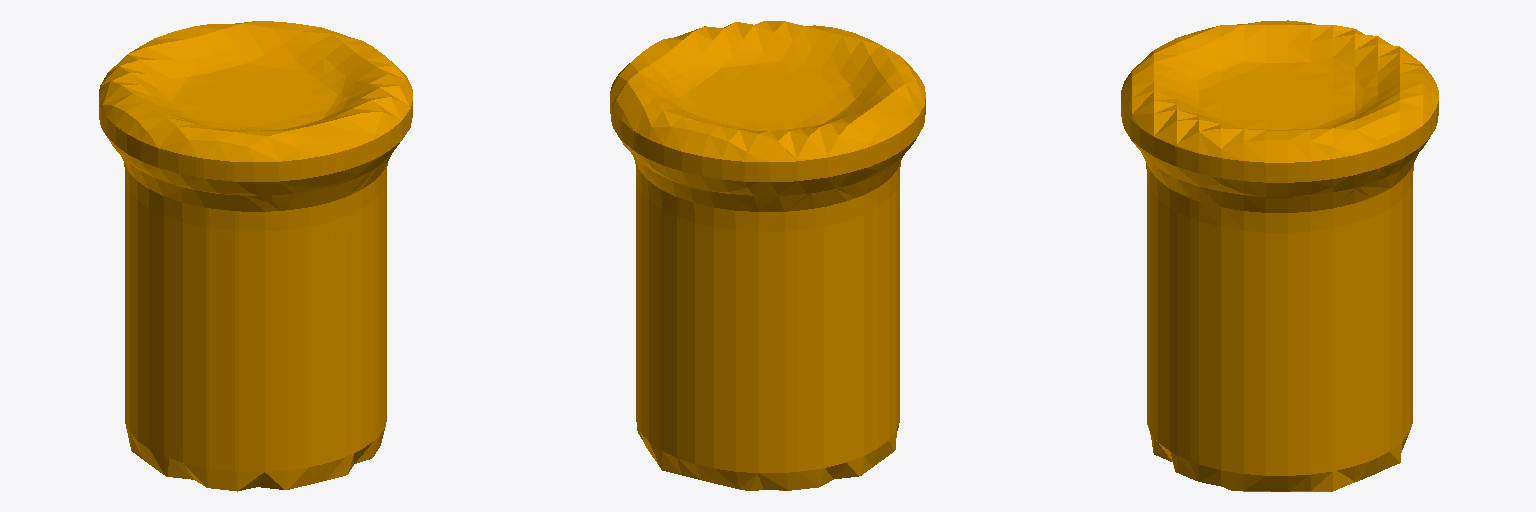
URDF robot description (cylinder_../../meshes/cylinders/cylinder_197.stl):
<?xml version="1.0" encoding="utf-8"?>  <robot name="cylinder_../../meshes/cylinders/cylinder_197.stl">   <link name="cylinder_../../meshes/cylinders/cylinder_197.stl">     <visual>       <geometry>         <mesh filename="../meshes/cylinders/cylinder_197.stl" scale="1 1 1"/>       </geometry>     </visual>     <collision>       <geometry>         <mesh filename="../meshes/cylinders/cylinder_197.stl" scale="1 1 1"/>       </geometry>     </collision>     <inertial>        <origin         xyz="0 0 0"         rpy="0 0 0" />       <mass value="0.2532784531147478"/>       <origin rpy="0 0 0" xyz="0 0 0"/>       <inertia ixx="0.00022895940406148478" ixy="-8.141556410543252e-08" ixz="-7.055306569248442e-08" iyy="0.00022895677810271471" iyz="-6.374552824191941e-08" izz="0.00012121580867974297"/>     </inertial>   </link>  </robot>

--- Render facts (derived) ---
Views: 3 orthographic renders of the robot side by side, from view 1: azimuth 30°, elevation 25°; view 2: azimuth 150°, elevation 25°; view 3: azimuth 270°, elevation 25°.
Robot: cylinder_../../meshes/cylinders/cylinder_197.stl — 1 links, 0 joints (none); root link cylinder_../../meshes/cylinders/cylinder_197.stl; default pose: all joints at 0.
Visible links, largest first — view 1: cylinder_../../meshes/cylinders/cylinder_197.stl; view 2: cylinder_../../meshes/cylinders/cylinder_197.stl; view 3: cylinder_../../meshes/cylinders/cylinder_197.stl.
Link boxes in pixels (x1,y1,x2,y2): cylinder_../../meshes/cylinders/cylinder_197.stl: [99, 21, 412, 491]; cylinder_../../meshes/cylinders/cylinder_197.stl: [610, 21, 925, 490]; cylinder_../../meshes/cylinders/cylinder_197.stl: [1121, 20, 1438, 491].
Bounding box of the posed robot: 0.0711 × 0.0711 × 0.0896 m (x, y, z).
1 mesh visuals loaded from 1 distinct referenced files (1 binary STL).